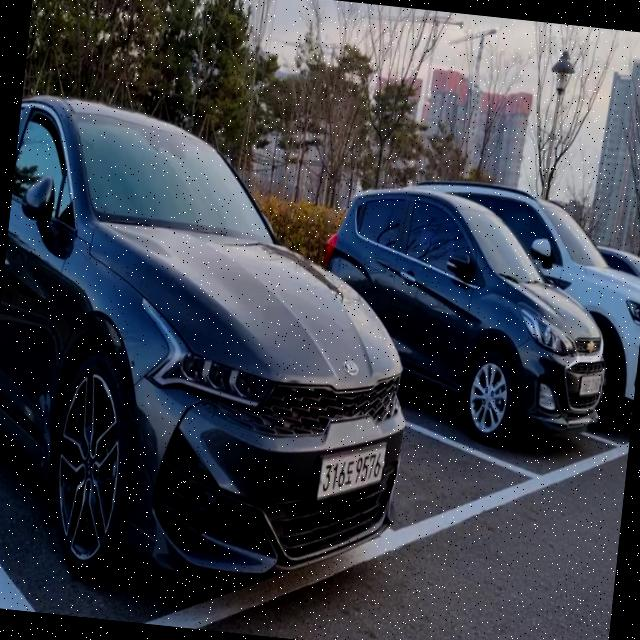empty: (388, 300, 560, 554)
occupied: (0, 86, 434, 640), (494, 270, 640, 492)
